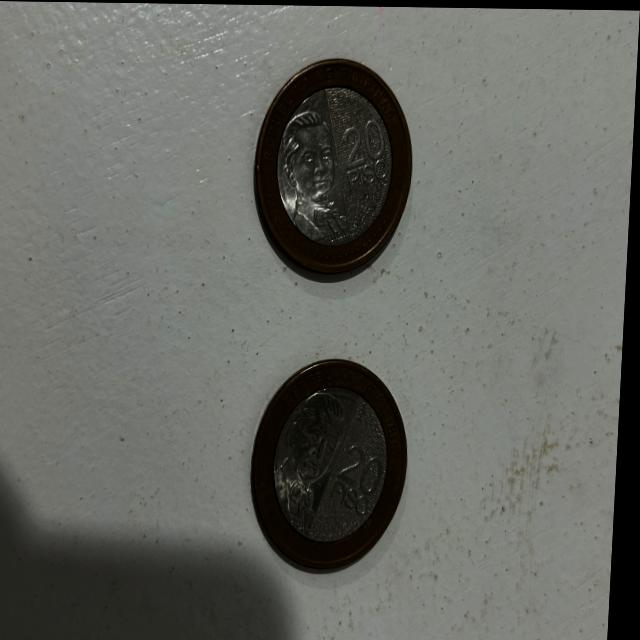20_New_Front: (323, 435, 395, 518), (338, 112, 392, 200)
